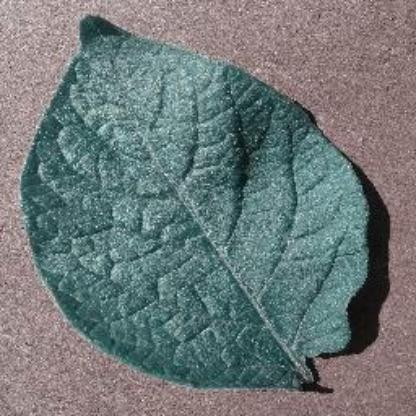Healthy-plant: (13, 9, 387, 396)
